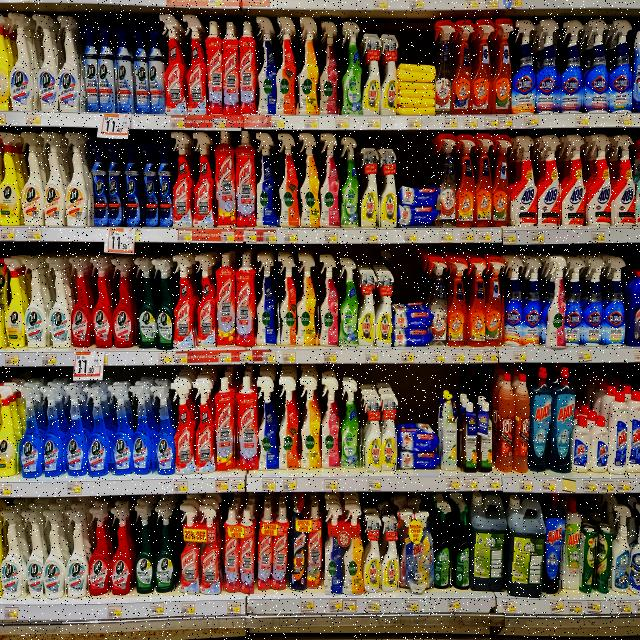MIS: (546, 253, 571, 347)
Product: (507, 494, 547, 598), (178, 504, 223, 595), (325, 501, 367, 596), (469, 493, 509, 591), (289, 499, 324, 597), (397, 508, 436, 590), (222, 505, 255, 596), (8, 11, 37, 111), (32, 9, 60, 111), (158, 12, 186, 114), (258, 506, 290, 592), (40, 130, 68, 227), (39, 384, 67, 479), (17, 383, 45, 478), (276, 18, 302, 116), (191, 131, 217, 229), (0, 255, 27, 349), (58, 12, 83, 112), (20, 130, 46, 226), (170, 380, 196, 475), (84, 385, 111, 476), (170, 131, 195, 229), (182, 12, 206, 114), (65, 132, 91, 226), (172, 253, 198, 347), (106, 384, 133, 474), (46, 252, 71, 349), (296, 250, 321, 347), (22, 255, 48, 348), (551, 366, 574, 470), (453, 15, 477, 114), (586, 132, 611, 227), (192, 379, 217, 474), (63, 383, 88, 478), (20, 508, 46, 599), (1, 509, 27, 599), (398, 59, 439, 116), (529, 366, 551, 472), (512, 135, 538, 224), (194, 252, 218, 348), (256, 249, 280, 345), (256, 13, 279, 113), (149, 385, 174, 476), (512, 17, 536, 111), (538, 18, 562, 112), (341, 16, 364, 114), (235, 250, 258, 348), (611, 132, 635, 225), (112, 254, 136, 347), (320, 15, 342, 116), (586, 19, 610, 111), (562, 134, 586, 226), (538, 134, 562, 226), (276, 131, 299, 227), (44, 508, 68, 600), (299, 375, 322, 470), (563, 255, 587, 346), (66, 507, 90, 598), (300, 16, 322, 115), (471, 19, 494, 113), (215, 252, 238, 346), (129, 384, 153, 474), (89, 507, 113, 596), (133, 254, 156, 346), (152, 255, 175, 347), (256, 377, 279, 469), (396, 422, 441, 469), (320, 377, 343, 468), (298, 131, 320, 226), (255, 132, 277, 227), (235, 131, 257, 226), (236, 376, 258, 471), (154, 504, 177, 594), (562, 18, 584, 112), (454, 131, 476, 225), (214, 132, 236, 226), (0, 131, 22, 225), (277, 250, 299, 344), (133, 505, 156, 594), (71, 255, 93, 348), (318, 254, 340, 347), (342, 378, 364, 471), (86, 138, 109, 226), (214, 378, 236, 470), (111, 507, 134, 595), (493, 17, 514, 113), (320, 131, 341, 227), (610, 18, 632, 109), (338, 255, 360, 346), (584, 258, 607, 345), (604, 255, 626, 345), (278, 378, 300, 468), (436, 18, 456, 116), (91, 255, 112, 348), (120, 140, 142, 228), (102, 139, 124, 227), (238, 18, 258, 114), (436, 132, 456, 228), (340, 135, 361, 226), (79, 23, 100, 112), (427, 255, 447, 348), (0, 384, 20, 477), (396, 185, 439, 228), (129, 25, 150, 113), (493, 133, 513, 225), (512, 372, 530, 474), (448, 255, 468, 346), (467, 255, 487, 346), (502, 256, 522, 346), (474, 132, 493, 226), (137, 141, 158, 226), (546, 495, 564, 594), (97, 24, 117, 113), (522, 256, 542, 344), (612, 502, 631, 594), (205, 20, 223, 116), (563, 494, 581, 589), (434, 500, 453, 589), (362, 32, 382, 116), (608, 390, 628, 473), (486, 256, 504, 346), (381, 31, 400, 116), (154, 141, 173, 226), (374, 270, 394, 350), (496, 372, 512, 472), (115, 24, 133, 112), (146, 24, 164, 112), (362, 394, 382, 472), (394, 304, 432, 345), (378, 146, 397, 227), (454, 499, 471, 589), (222, 20, 238, 114), (364, 514, 383, 592), (361, 146, 379, 228), (358, 268, 376, 348), (580, 522, 600, 594), (381, 513, 399, 592), (379, 392, 397, 470), (460, 401, 478, 474), (596, 522, 614, 594), (0, 11, 13, 110), (441, 393, 457, 473), (572, 412, 592, 473), (626, 389, 640, 475), (476, 401, 492, 471), (590, 414, 608, 474), (629, 500, 640, 595), (627, 270, 640, 345), (632, 24, 640, 109)
